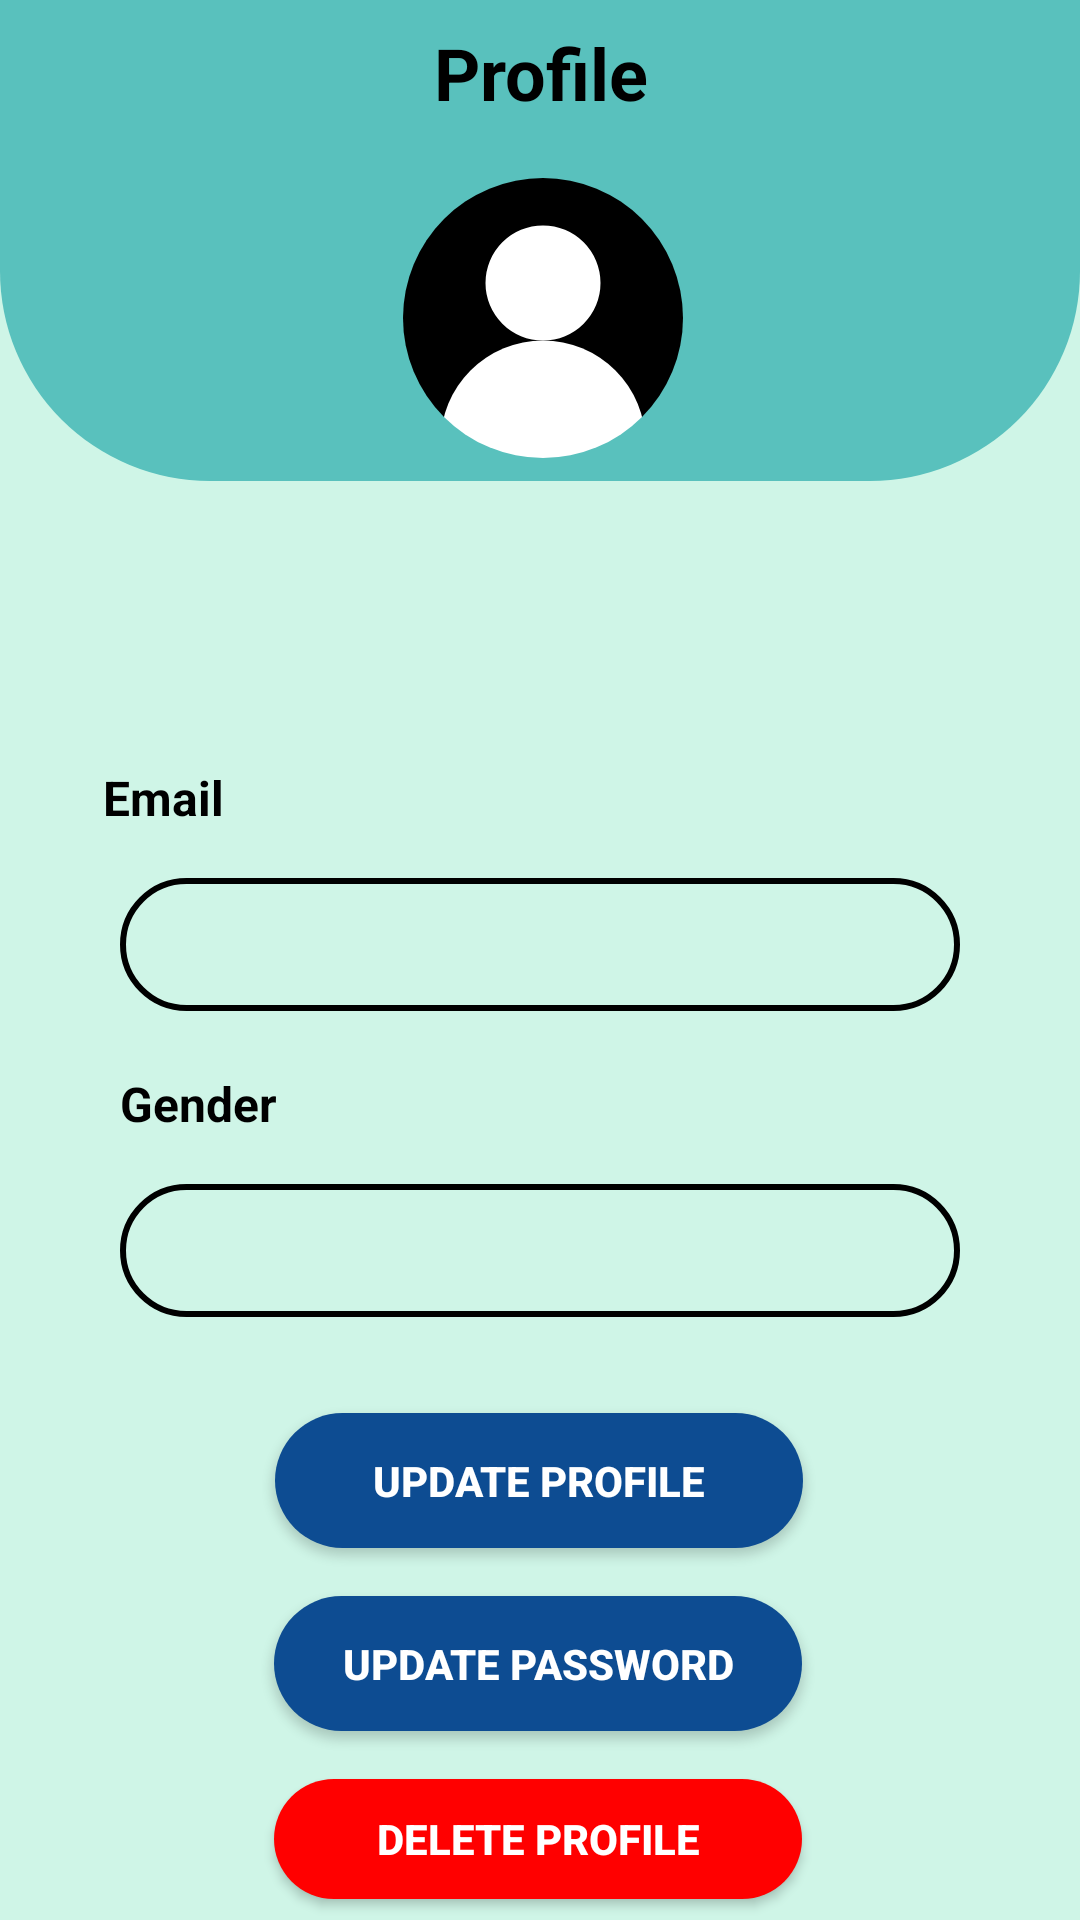

Screen size 1080*1920. Icon name, then its box in pixels as (x1, y1, x2, y2):
abstract user: (403, 178, 683, 458)
